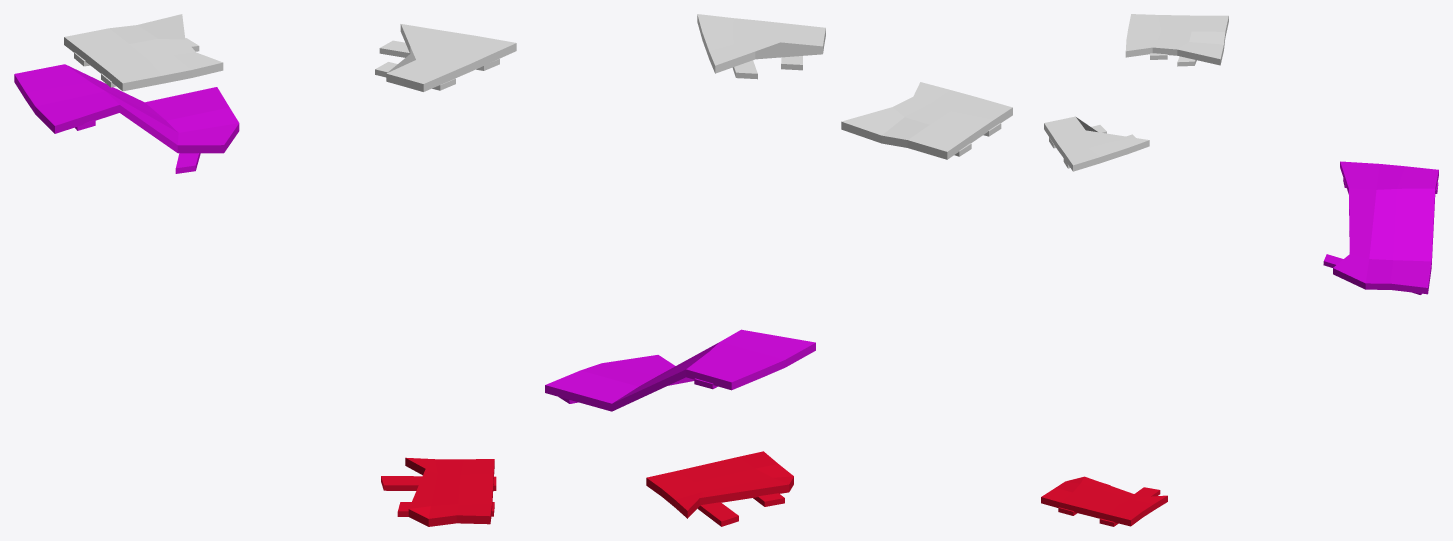
File: NIVEL1_LUCES_plataformas.fbx
3 views of the same model, side by side, from view 1: azimuth 30°, elevation 25°; view 2: azimuth 150°, elevation 25°; view 3: azimuth 270°, elevation 25° (orthographic). The views are drawn at different scales.
Visible parts, largest first — view 1: plat.002, plat.001, plat.003, plat; view 2: plat.002, plat.001, plat.003, plat; view 3: plat.002, plat.001, plat.003, plat.
Part boxes in pixels (x1=…): plat.002: x1=14, y1=64, x2=239, y2=173; plat.001: x1=64, y1=14, x2=223, y2=91; plat.003: x1=381, y1=457, x2=496, y2=526; plat: x1=375, y1=24, x2=516, y2=91; plat.002: x1=545, y1=329, x2=815, y2=411; plat.001: x1=841, y1=82, x2=1012, y2=159; plat.003: x1=646, y1=451, x2=793, y2=526; plat: x1=697, y1=14, x2=825, y2=79; plat.002: x1=1323, y1=161, x2=1438, y2=294; plat.001: x1=1125, y1=14, x2=1228, y2=66; plat.003: x1=1041, y1=476, x2=1167, y2=526; plat: x1=1044, y1=116, x2=1149, y2=171.
Bounding box in the file's own units: 719 × 886 × 852.
